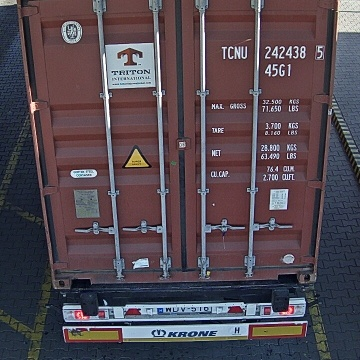serial_id: (221, 45, 324, 59)
